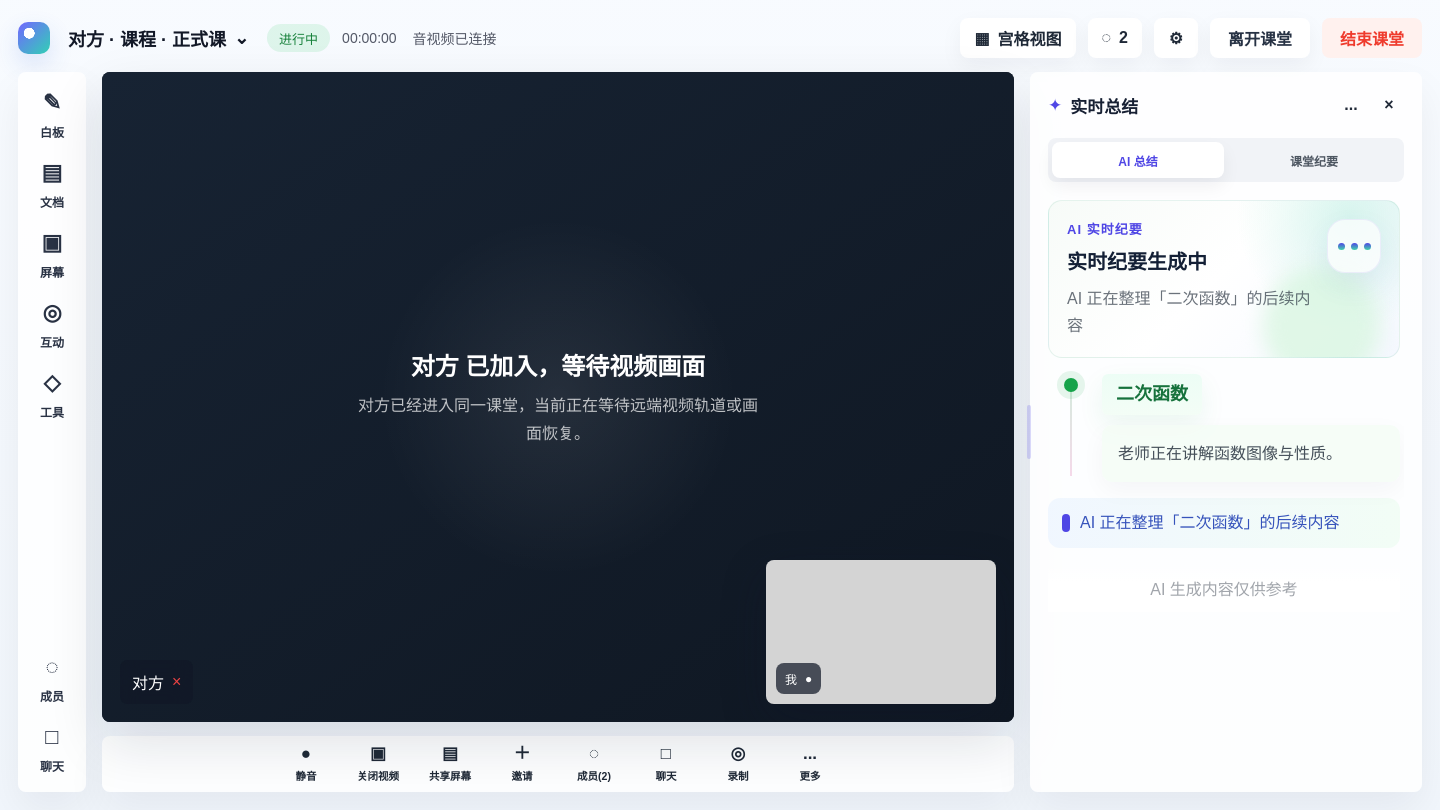
Test: LiveClassroomPage › shows live classroom chat panel and sends class message
The image size is (1440, 810).
Click the button with test id "classroom-open-chat". click: click(666, 764)
box: [633,742,699,786]
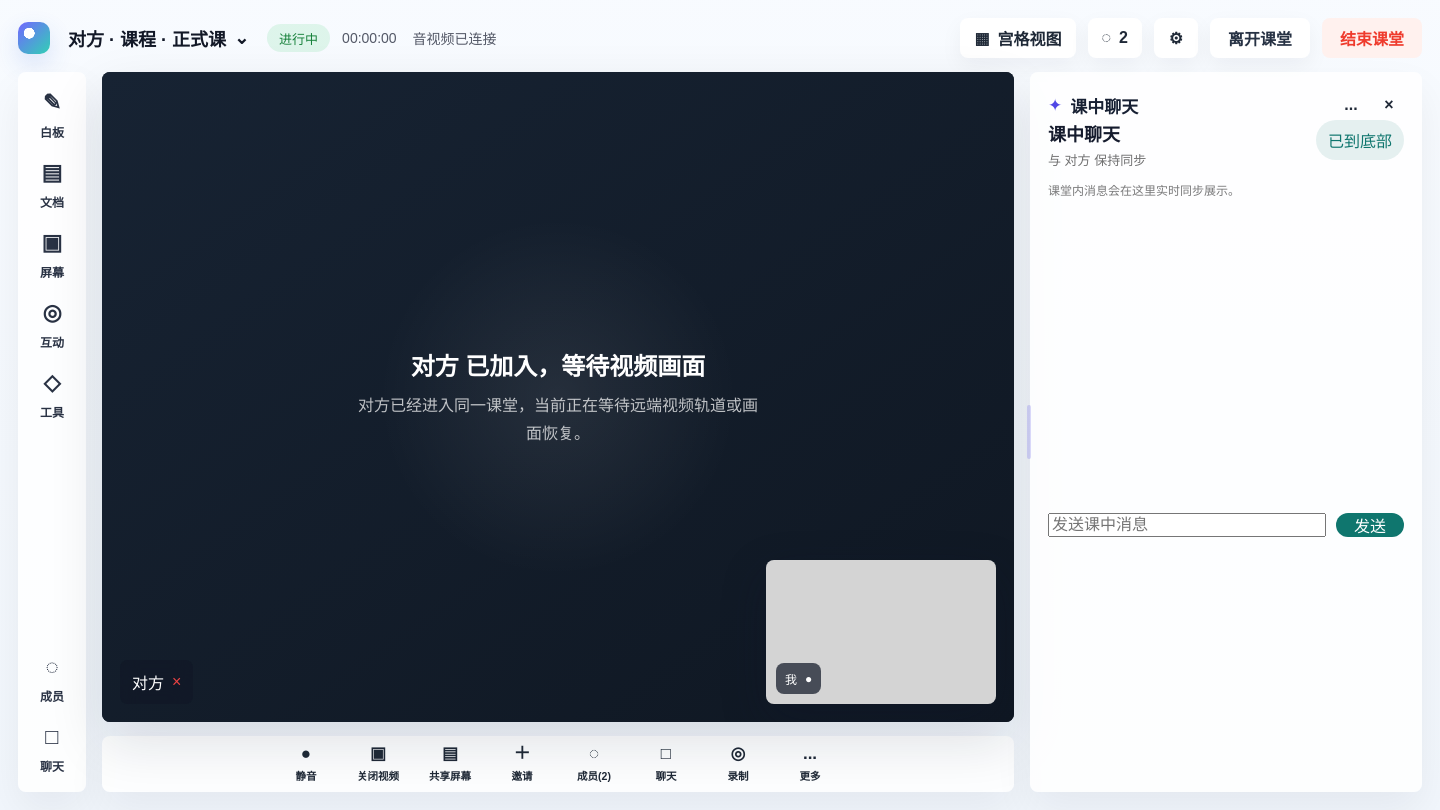
Now the element with test id "live-chat-list" is shown, box [1048,184,1240,198]
Type "我们开始上课" into the field with test id "live-chat-input". click: (1187, 525)
box: [1048,513,1326,537]
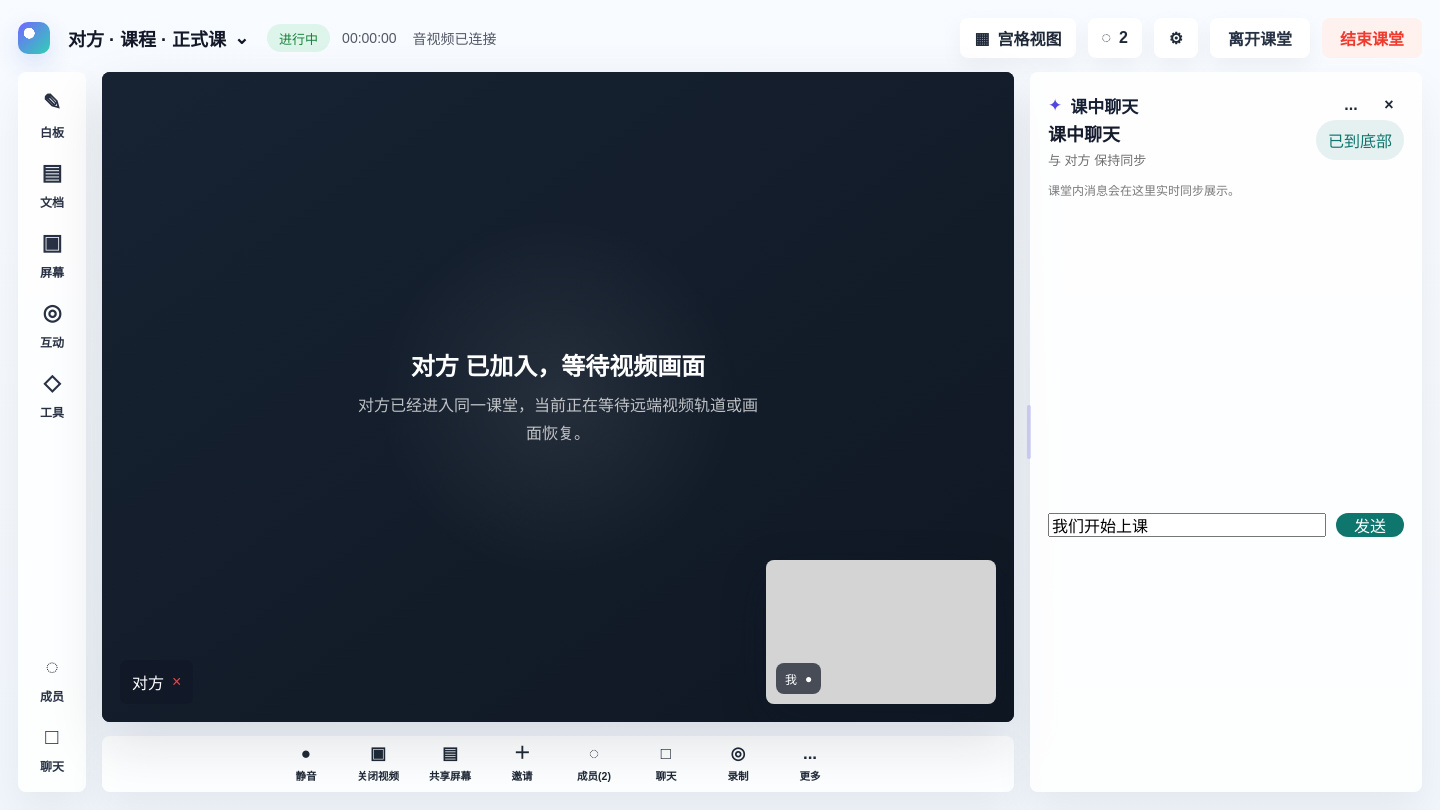
Click the button with test id "live-chat-send". click: click(1370, 525)
box: [1336,513,1404,537]
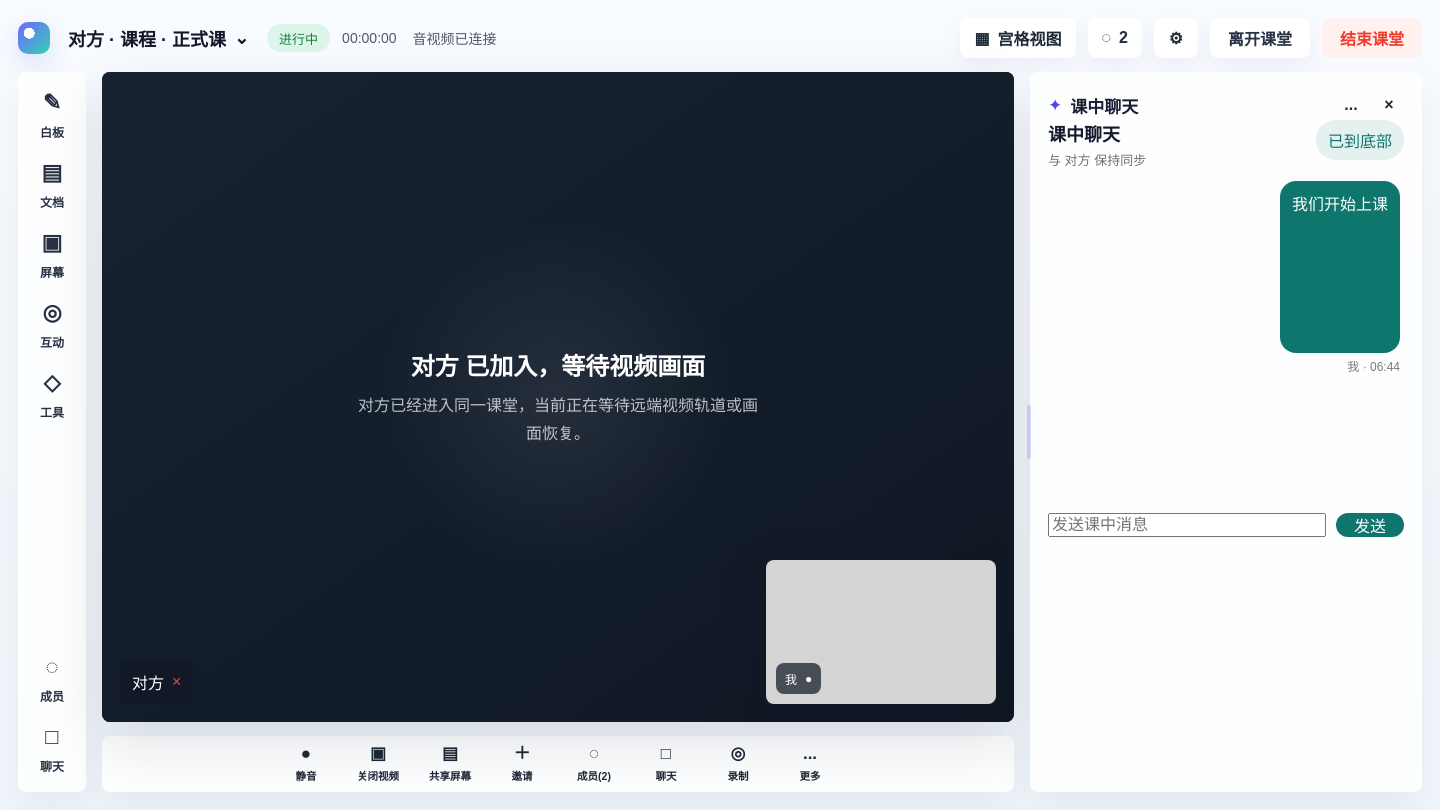
Now the text "我们开始上课" is shown, box [1280,181,1400,352]
